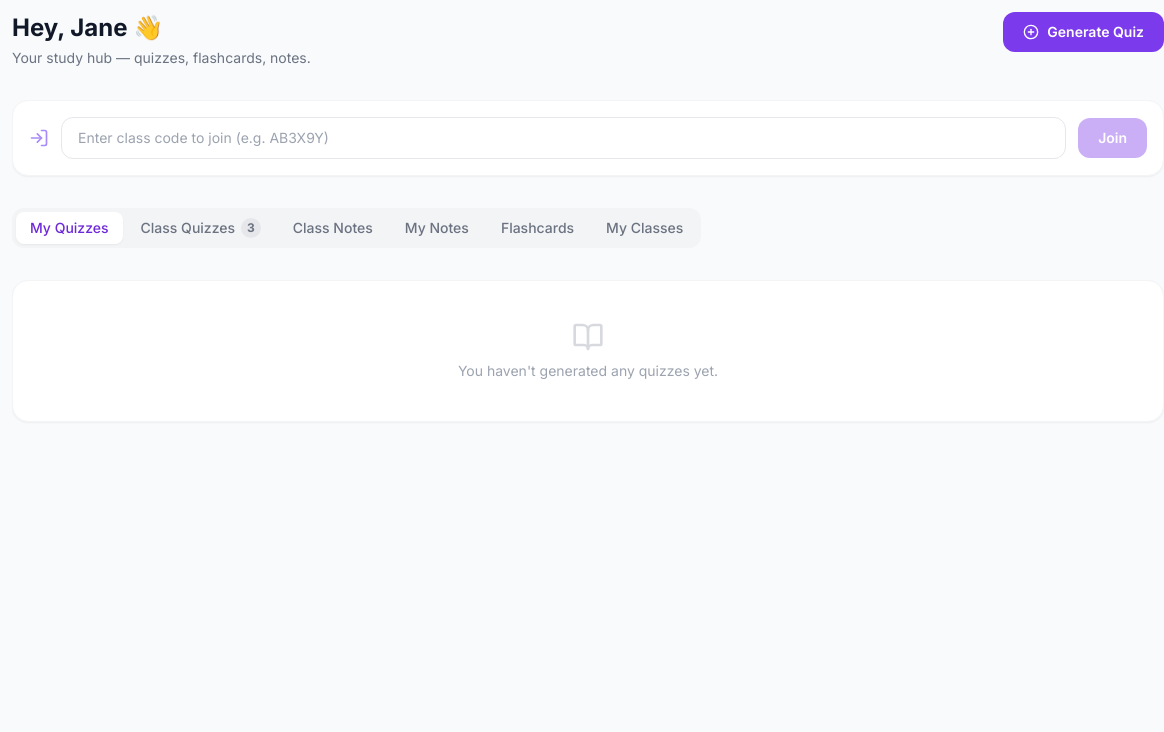
StudentDashboard - FEAT-008 Quiz Sharing › Integration: Multiple quizzes from multiple classes › displays quizzes from multiple joined classes
Click the button "Class Quizzes 3". click: (201, 228)
box: [127,212,275,244]
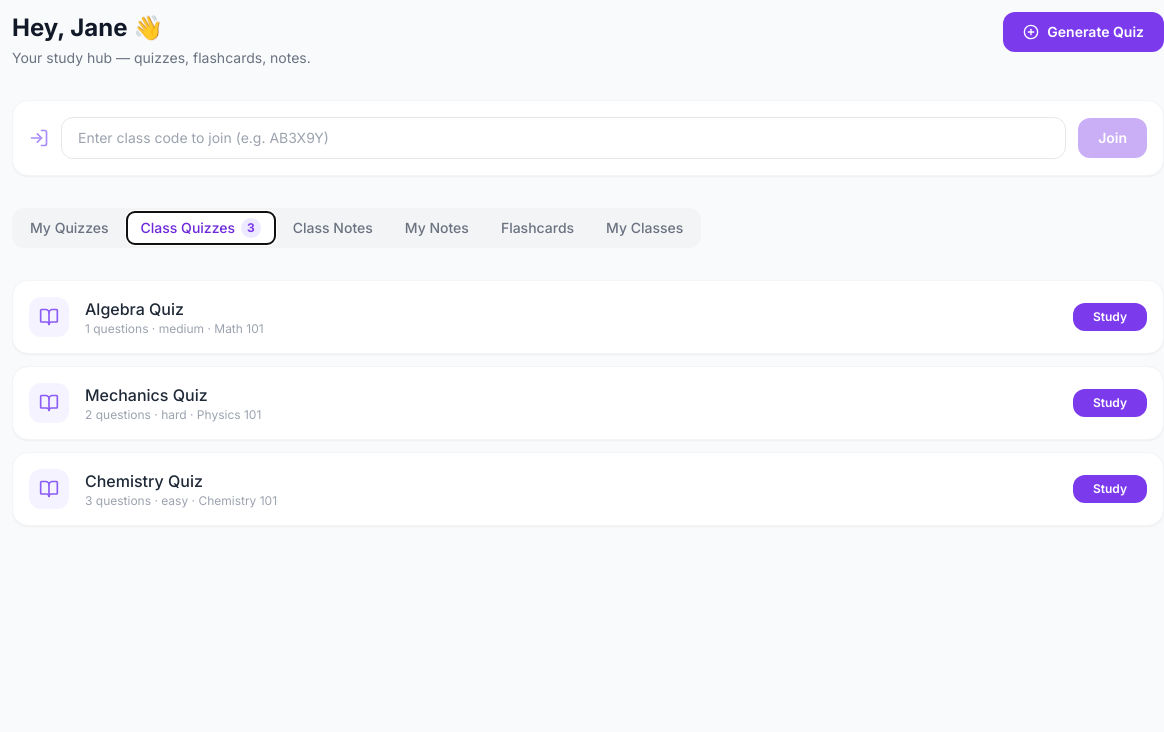
Result: the text "Algebra Quiz" is shown at [85,299,184,319]
Result: the text "Mechanics Quiz" is shown at [85,385,208,405]
Result: the text "Chemistry Quiz" is shown at [85,471,203,491]
